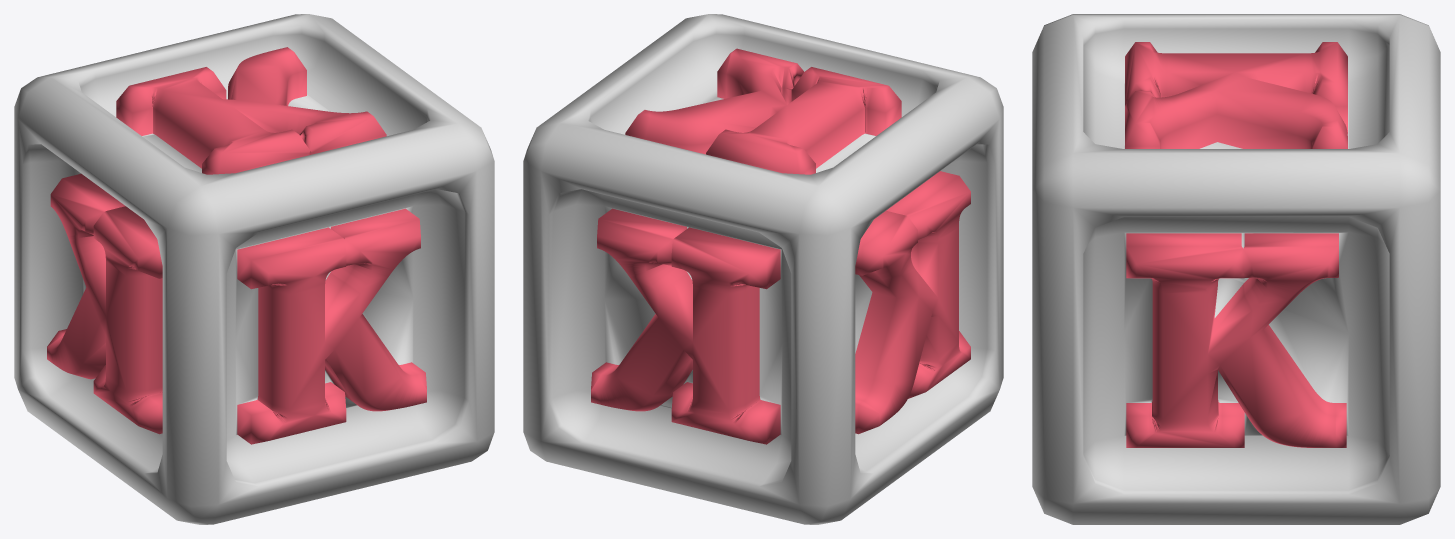
3 renders of one model, left to right at view 1: azimuth 30°, elevation 25°; view 2: azimuth 150°, elevation 25°; view 3: azimuth 270°, elevation 25°, orthographic. The views are drawn at different scales.
Parts seen in each view (by area): view 1: obj_0; view 2: obj_0; view 3: obj_0.
Boxes of the visible parts, x1,y1,x2,y2 form: obj_0: (14,14,494,524); obj_0: (523,14,1003,524); obj_0: (1032,14,1440,524).
Bounding box in the file's own units: 100 × 100 × 100.
